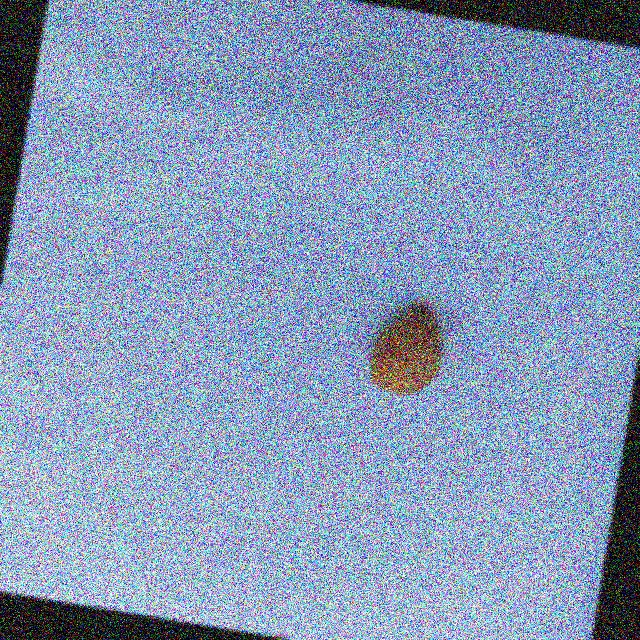grade2: (359, 295, 453, 403)
